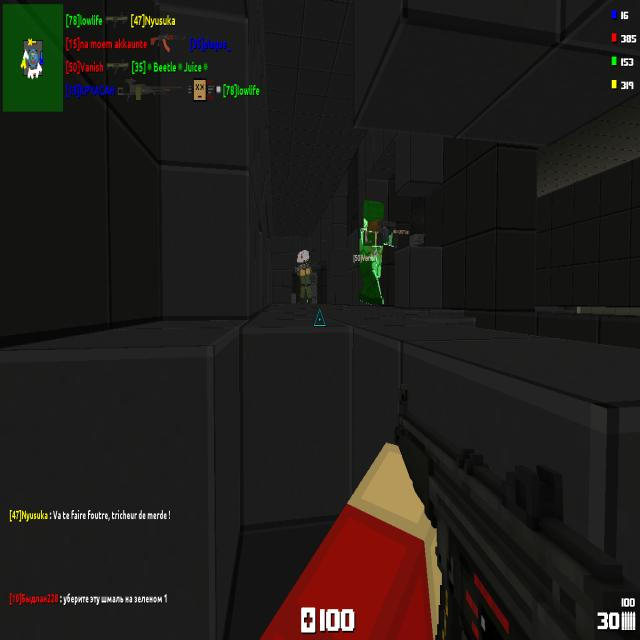enemy: (358, 199, 399, 304), (296, 249, 312, 303)
